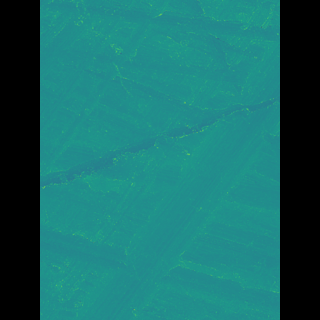Loch: (97, 37, 249, 319), (68, 92, 250, 197), (70, 0, 167, 173), (70, 0, 250, 43)
